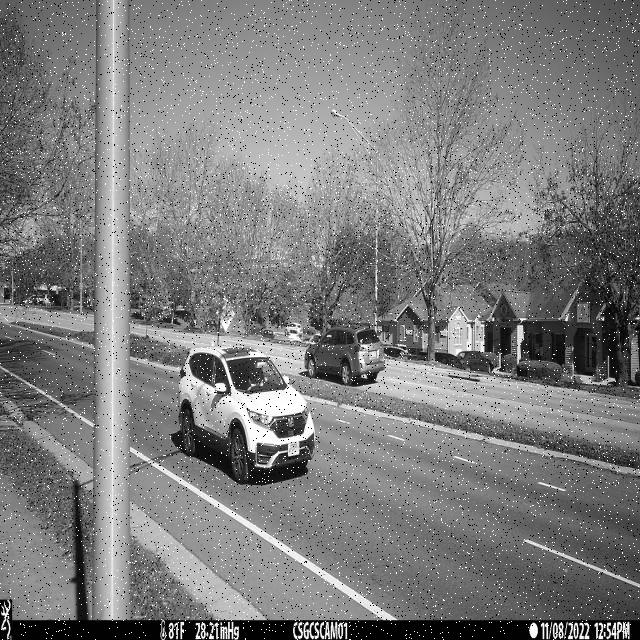SUV: (176, 341, 314, 483)
